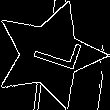L_W: (19, 32, 80, 78)
